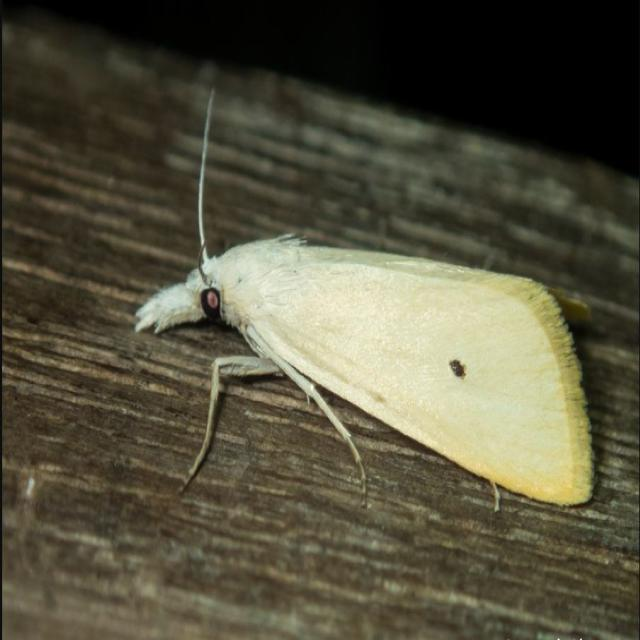rice stem borer -penggerek batang padi-: (132, 85, 596, 516)
